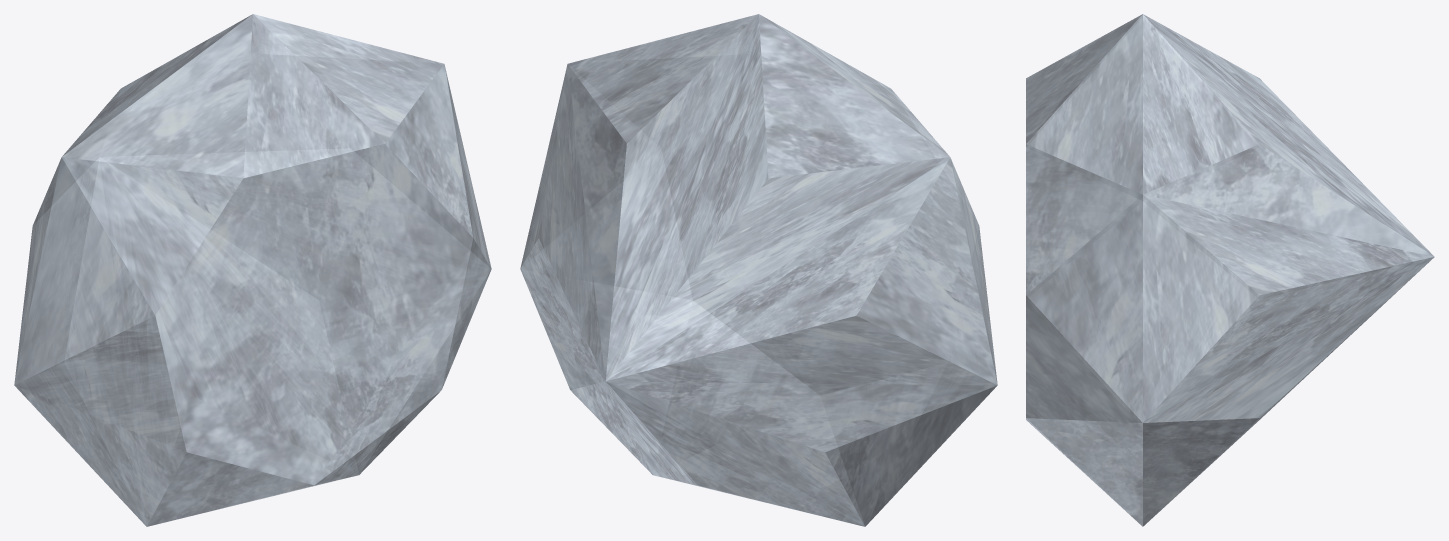
File: HeptagonalAntiprism2.obj
3 views of the same model, side by side, from view 1: azimuth 30°, elevation 25°; view 2: azimuth 150°, elevation 25°; view 3: azimuth 270°, elevation 25° (orthographic). The views are drawn at different scales.
Bounding box in the file's own units: 2.25 × 2.19 × 1.75.
Materials: 1 (1 with a texture image).
